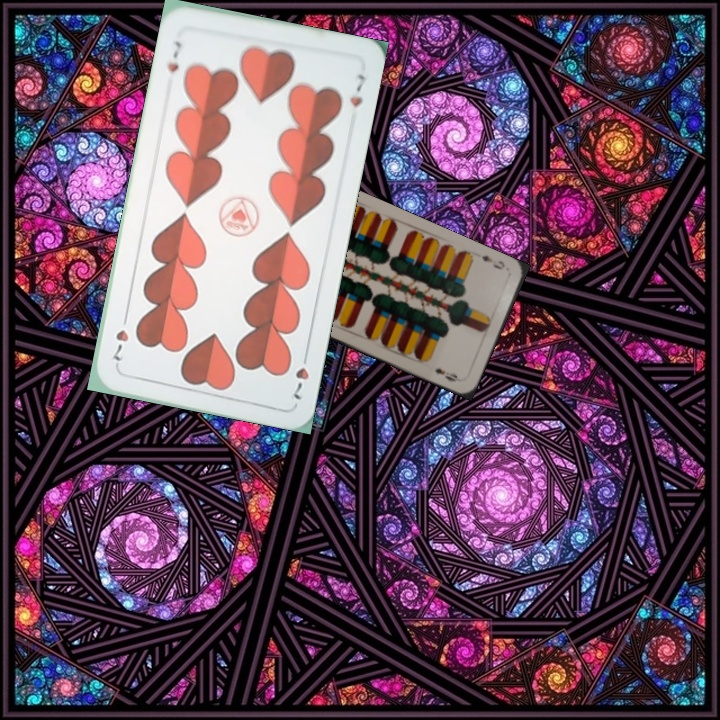E9: (477, 251, 508, 272)
H7: (286, 346, 312, 403), (163, 37, 184, 75)
